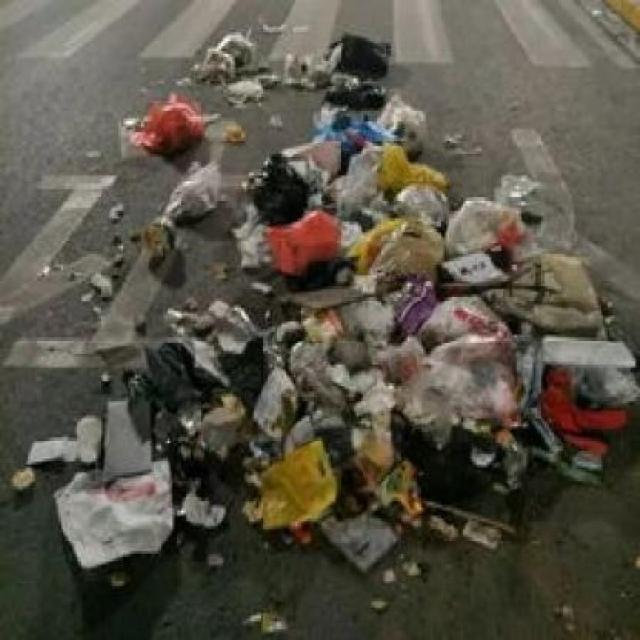garbage: (42, 11, 540, 624), (535, 232, 632, 510)
